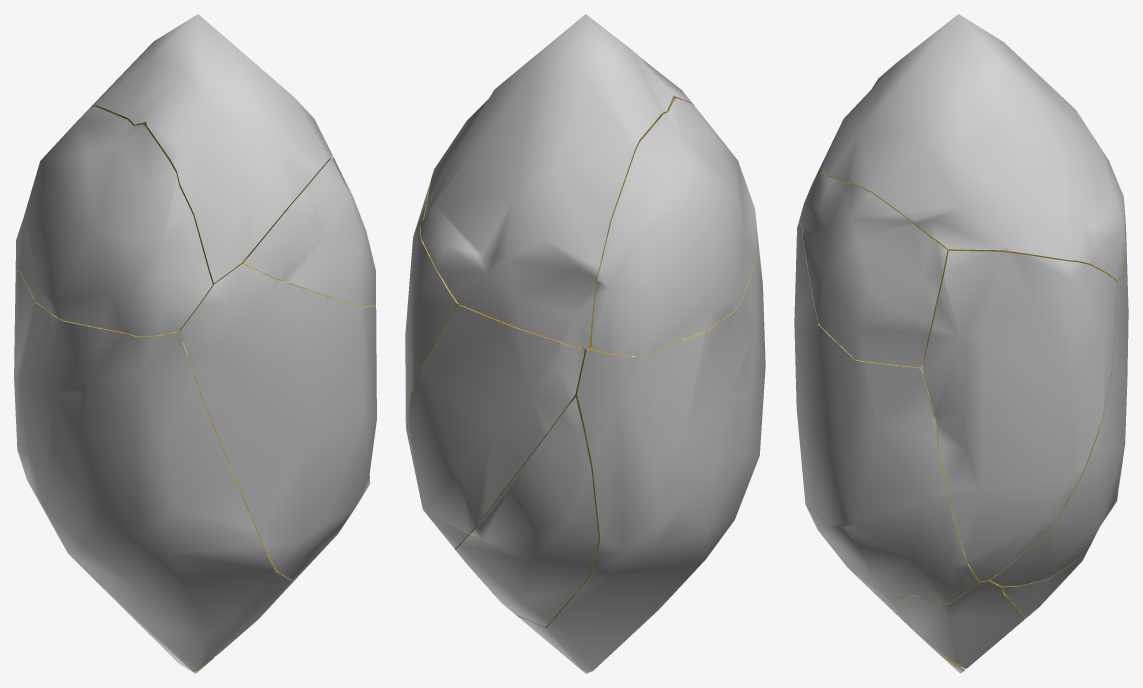
The model's file is Debris001.fbx.
3 views of the same model, side by side, from view 1: azimuth 30°, elevation 25°; view 2: azimuth 150°, elevation 25°; view 3: azimuth 270°, elevation 25° (orthographic).
Visible parts, largest first — view 1: Mesh_0_cell.003, Mesh_0_cell.004, Mesh_0_cell.011, Mesh_0_cell.007, Mesh_0_cell.009; view 2: Mesh_0_cell.007, Mesh_0_cell.003, Mesh_0_cell.011, Mesh_0_cell.010, Mesh_0_cell, Mesh_0_cell.005; view 3: Mesh_0_cell.007, Mesh_0_cell.005, Mesh_0_cell.004, Mesh_0_cell.009, Mesh_0_cell.010, Mesh_0_cell.003, Mesh_0_cell.
Boxes of the visible parts, left/top/right/bottom form: Mesh_0_cell.003: left=14, top=269, right=301, bottom=670; Mesh_0_cell.004: left=179, top=255, right=376, bottom=579; Mesh_0_cell.011: left=15, top=106, right=212, bottom=336; Mesh_0_cell.007: left=90, top=14, right=332, bottom=283; Mesh_0_cell.009: left=243, top=157, right=375, bottom=306; Mesh_0_cell.007: left=420, top=14, right=694, bottom=349; Mesh_0_cell.003: left=516, top=253, right=765, bottom=672; Mesh_0_cell.011: left=592, top=98, right=759, bottom=356; Mesh_0_cell.010: left=407, top=304, right=584, bottom=548; Mesh_0_cell: left=455, top=397, right=598, bottom=627; Mesh_0_cell.005: left=405, top=182, right=460, bottom=438; Mesh_0_cell.007: left=812, top=14, right=1126, bottom=281; Mesh_0_cell.005: left=922, top=251, right=1117, bottom=581; Mesh_0_cell.004: left=794, top=221, right=978, bottom=604; Mesh_0_cell.009: left=799, top=174, right=947, bottom=367; Mesh_0_cell.010: left=990, top=255, right=1128, bottom=586; Mesh_0_cell.003: left=849, top=569, right=1025, bottom=668; Mesh_0_cell: left=1003, top=489, right=1118, bottom=617.
Size of the model in its own units: 55.18 by 120 by 55.
